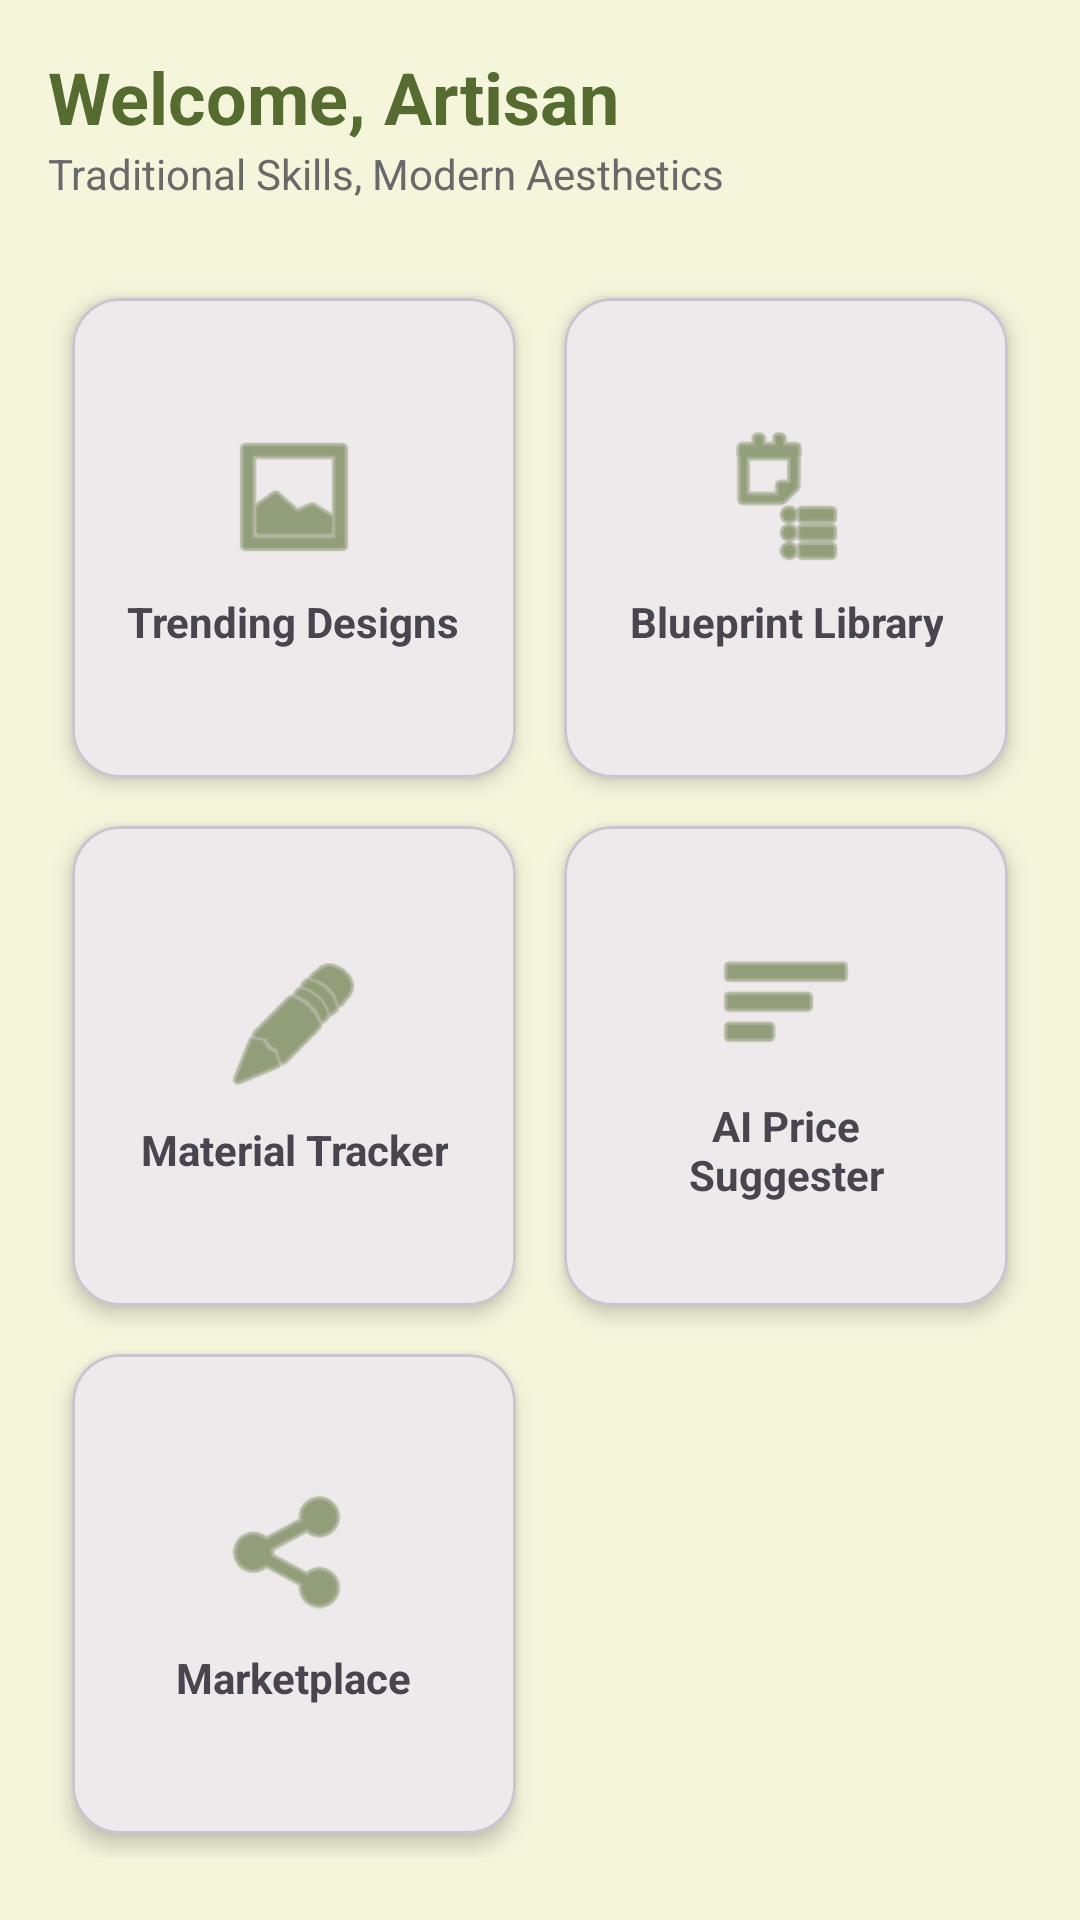

Icons on this 1080 x 1920 Android screen, each with its box as (x1, y1, x2, y2):
agenda: (736, 432, 837, 560)
edit: (233, 963, 354, 1085)
gallery: (240, 443, 348, 551)
share: (233, 1496, 340, 1609)
sort by size: (724, 961, 848, 1042)
